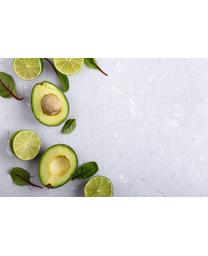avocado: (31, 81, 70, 127), (39, 144, 78, 189)
